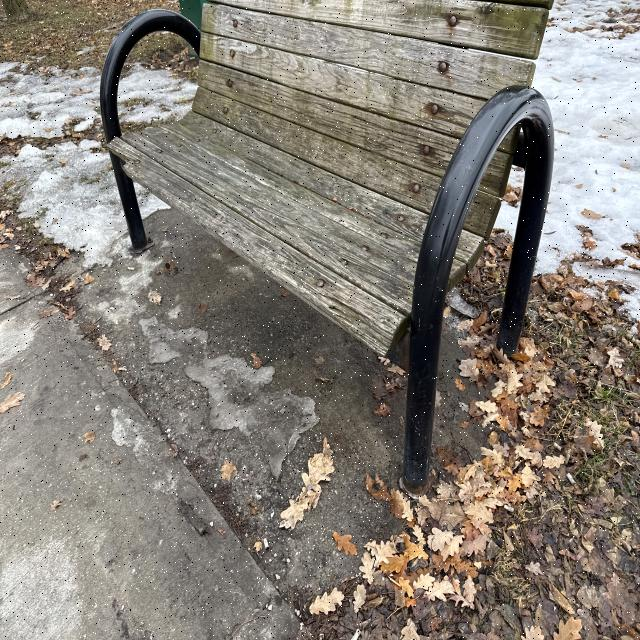Bench: (110, 0, 564, 295), (305, 4, 563, 433)
